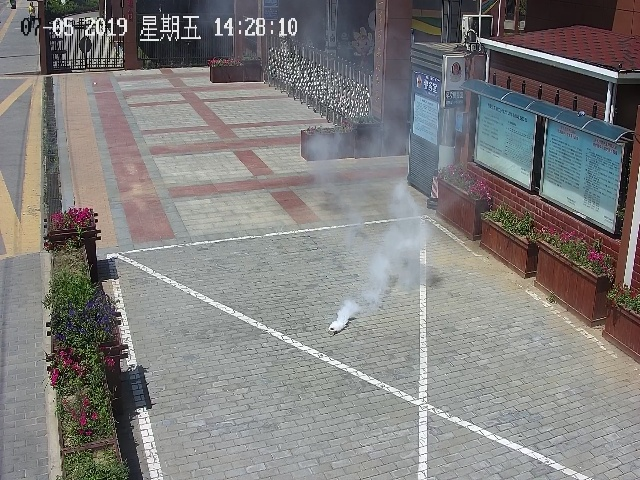yanwu: (305, 135, 440, 329)
